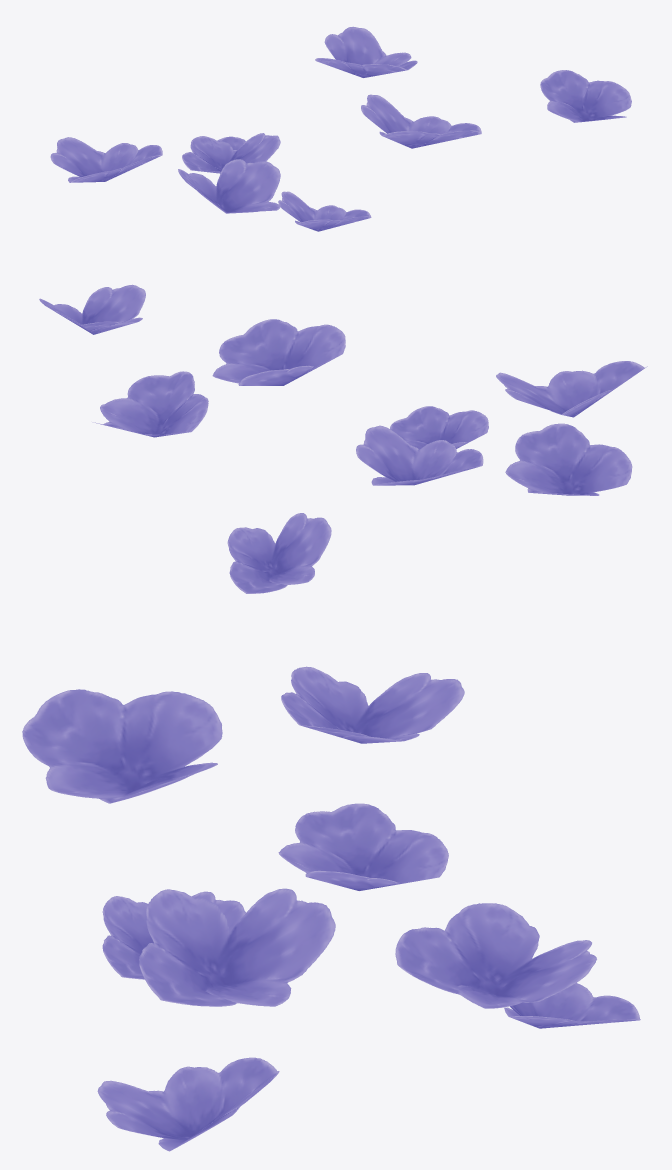
Rendered from SM_EastLands_FlowerGroup_02.fbx.
3 views of the same model, one above another, from view 1: azimuth 30°, elevation 25°; view 2: azimuth 150°, elevation 25°; view 3: azimuth 270°, elevation 25° (orthographic). The views are drawn at different scales.
Visible parts, largest first — view 1: SM_EastLands_FlowerGroup_02_LOD0; view 2: SM_EastLands_FlowerGroup_02_LOD0; view 3: SM_EastLands_FlowerGroup_02_LOD0.
Part boxes in pixels (left/top/right/bottom): SM_EastLands_FlowerGroup_02_LOD0: left=50, top=26, right=631, bottom=231; SM_EastLands_FlowerGroup_02_LOD0: left=39, top=284, right=647, bottom=593; SM_EastLands_FlowerGroup_02_LOD0: left=22, top=666, right=640, bottom=1151.
Bounding box in the file's own units: 103 × 23.74 × 59.23.
